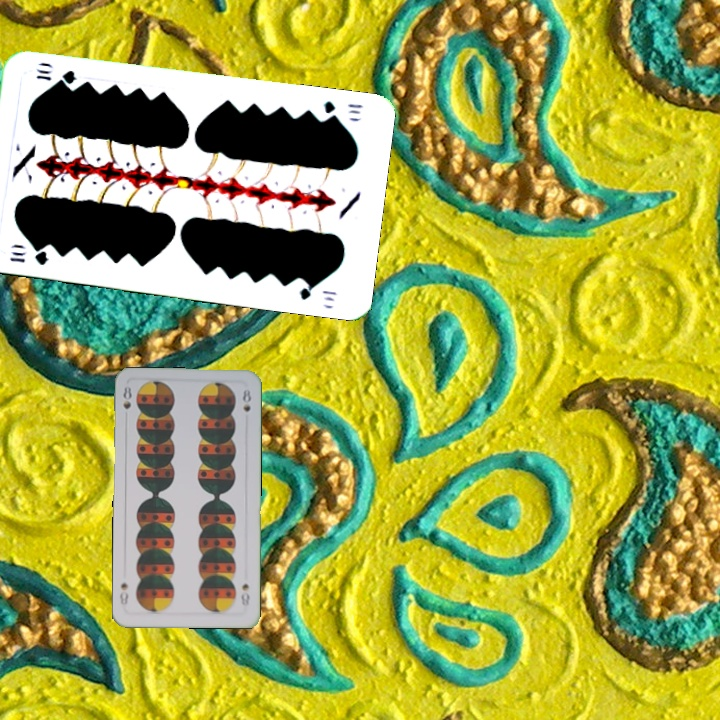G10: (319, 96, 366, 123), (6, 245, 51, 268)
S8: (237, 579, 252, 609), (119, 382, 134, 412)
